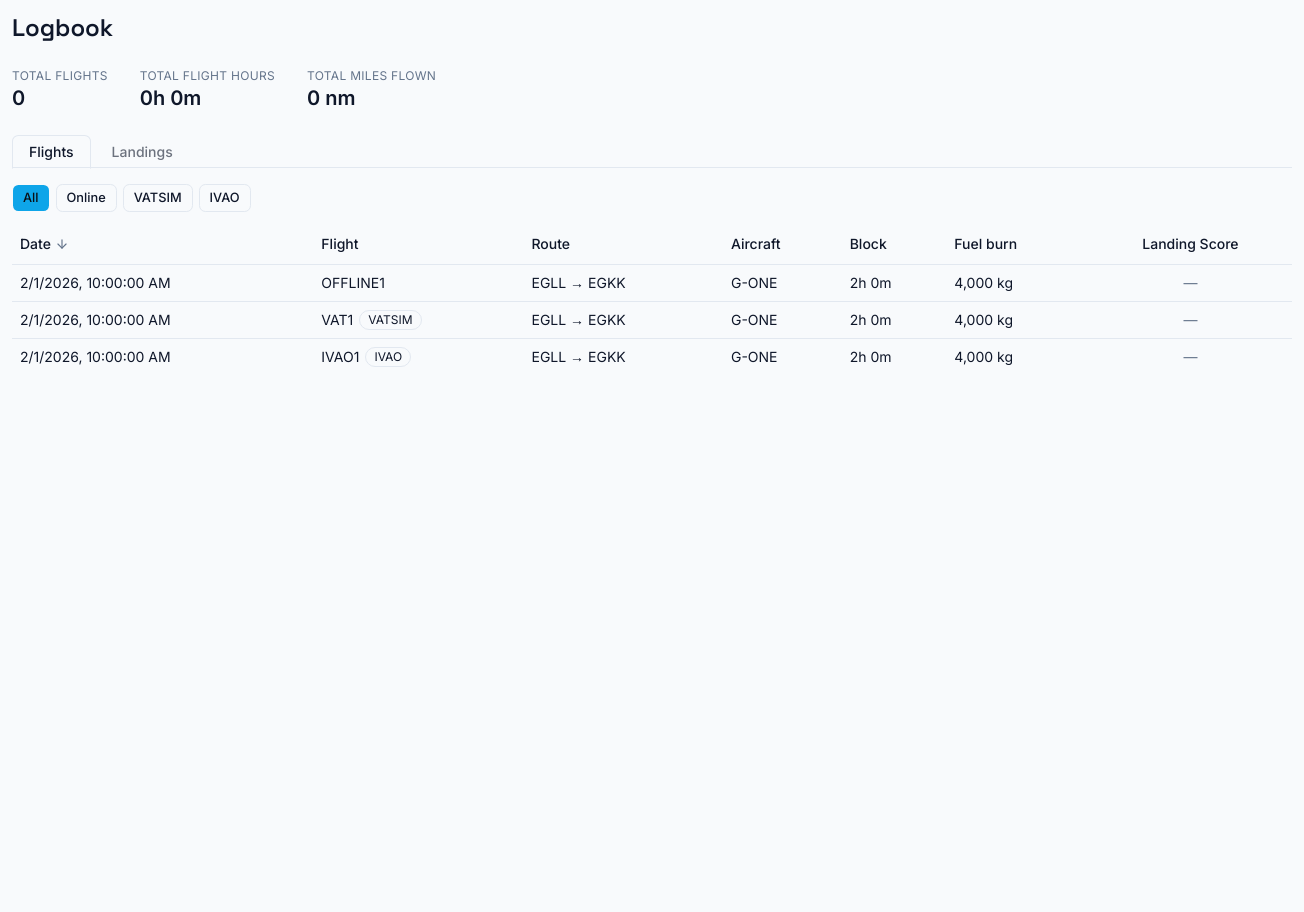
Test: LogbookView list › flights flown online › shows the network and callsign on the detail of a flight, and no Online line for an offline flight
Click the text "VAT1".
click(652, 320)  # box x1=12 y1=301 x2=1292 y2=338
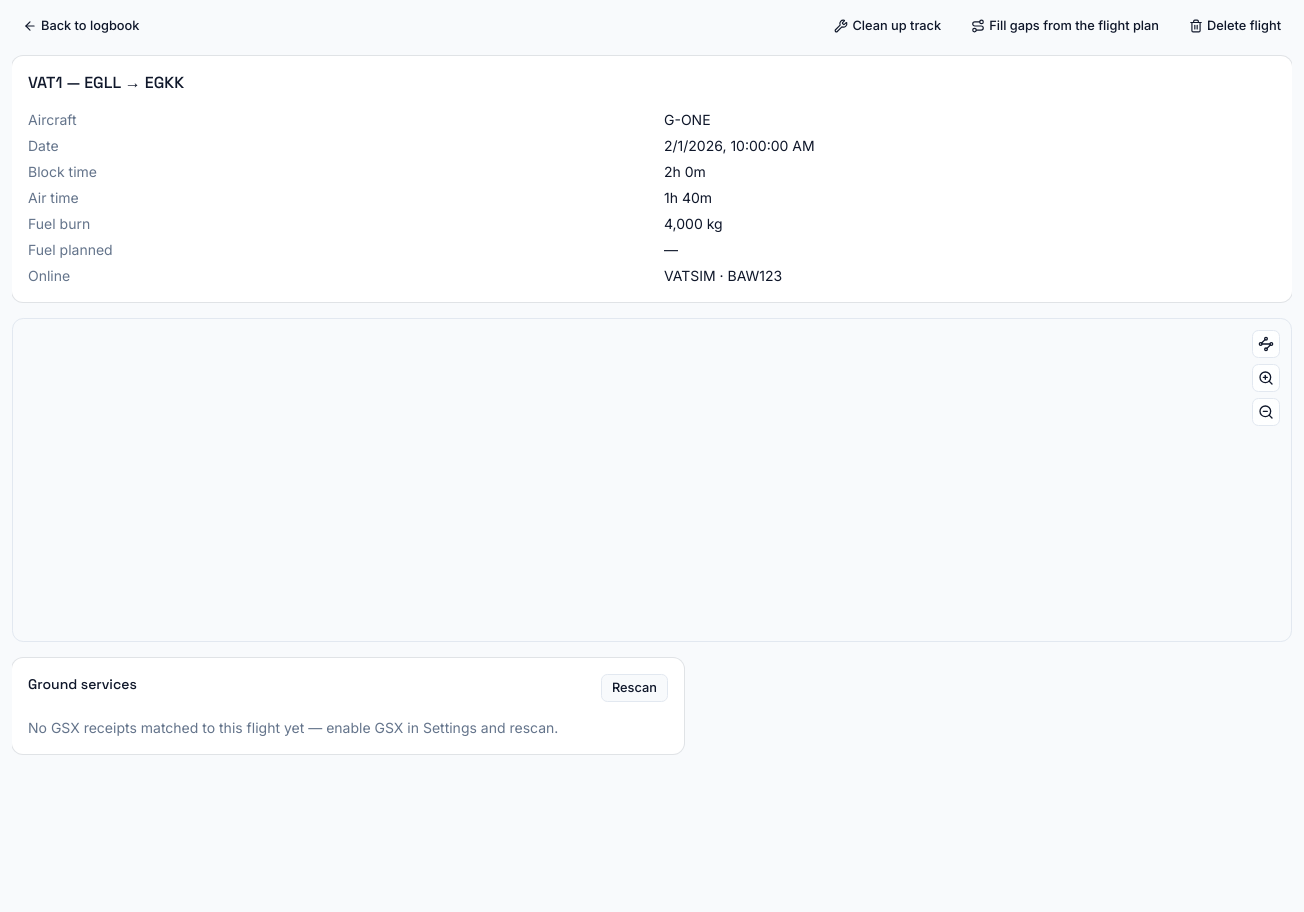
Expected: the text "VATSIM · BAW123" is shown, x1=664 y1=267 x2=782 y2=284
Click the button "Back to logbook".
click(81, 26)  # box x1=12 y1=12 x2=150 y2=40
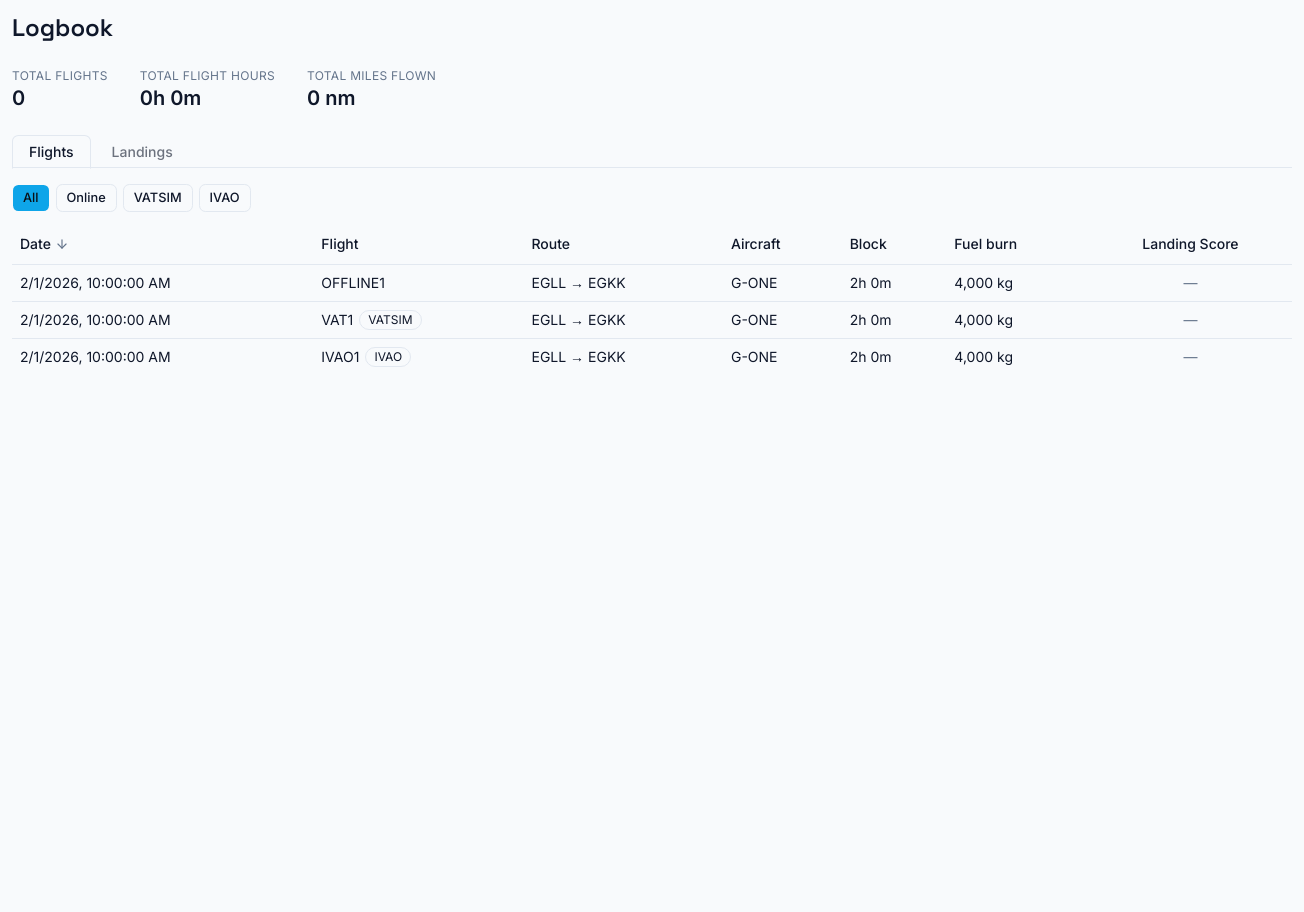
Click the text "OFFLINE1".
click(652, 282)  # box x1=12 y1=264 x2=1292 y2=301
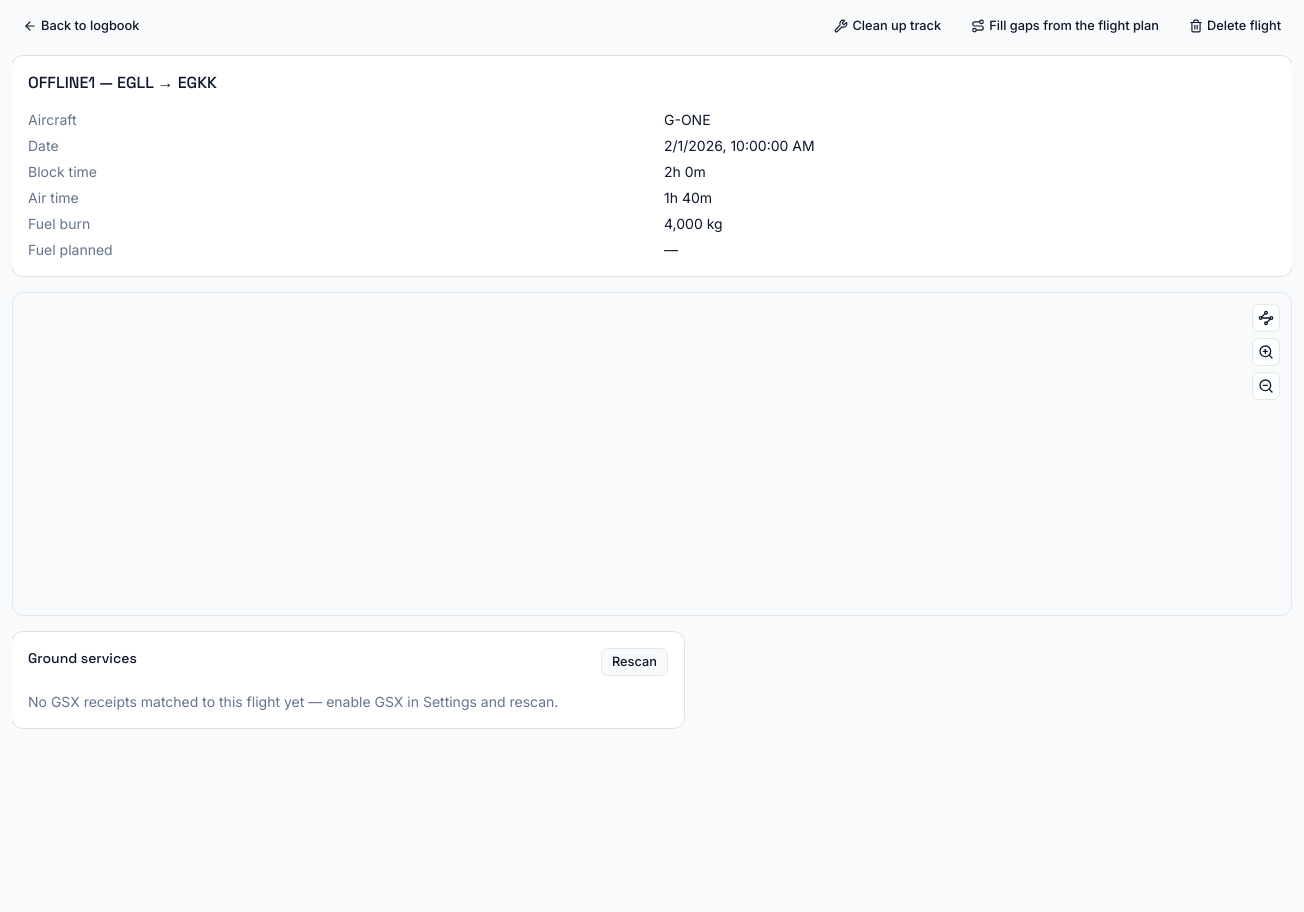
Expected: the text "Block time" is shown, x1=28 y1=163 x2=97 y2=180
Expected: the button "Online" is gone
